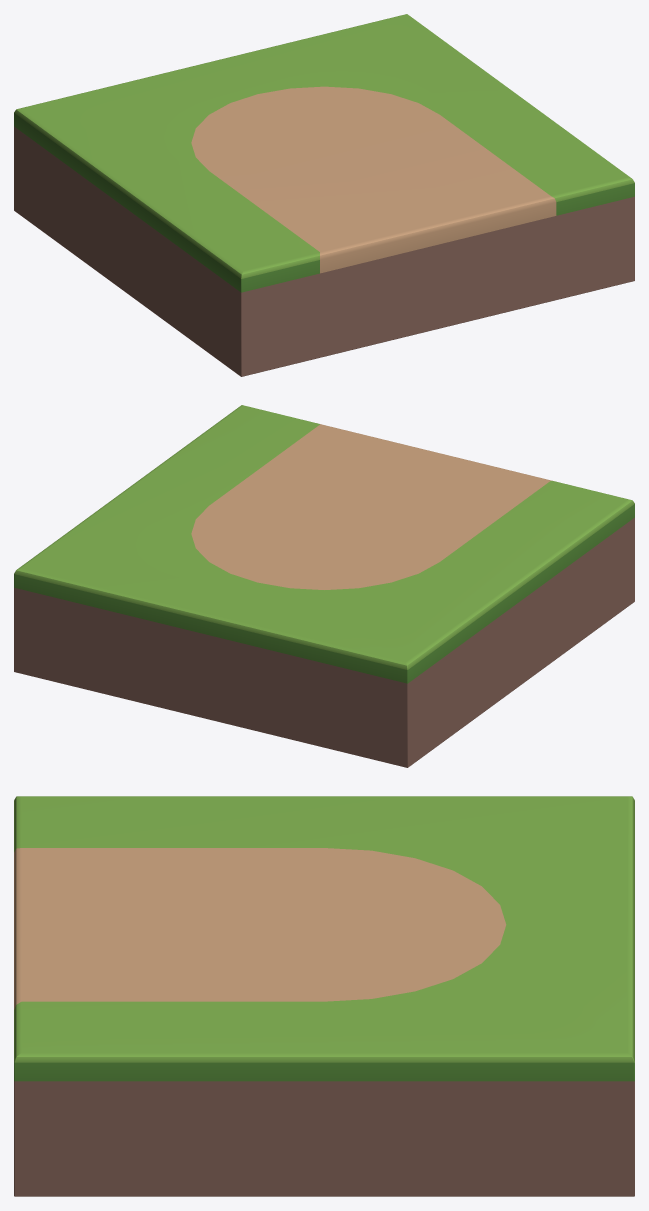
File: dirt_path_tile_end_01.glb
3 renders of one model, top to bottom at view 1: azimuth 30°, elevation 25°; view 2: azimuth 150°, elevation 25°; view 3: azimuth 270°, elevation 25°, orthographic. The views are drawn at different scales.
Visible parts, largest first — view 1: dirt_path_tile_end_01; view 2: dirt_path_tile_end_01; view 3: dirt_path_tile_end_01.
Part boxes in pixels (box(x1,y1,x2,y2)): dirt_path_tile_end_01: box(14, 14, 634, 376); dirt_path_tile_end_01: box(14, 405, 634, 767); dirt_path_tile_end_01: box(14, 796, 634, 1196).
Size of the model in its own units: 1 by 0.25 by 1.
